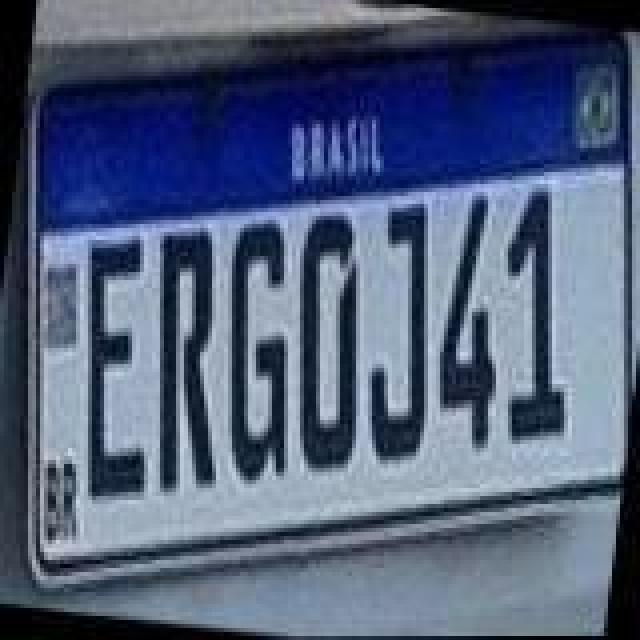1: (484, 184, 596, 448)
4: (424, 190, 520, 454)
D: (272, 208, 384, 476)
E: (56, 230, 176, 506)
G: (204, 214, 316, 486)
J: (360, 198, 456, 470)
R: (130, 224, 246, 500)
